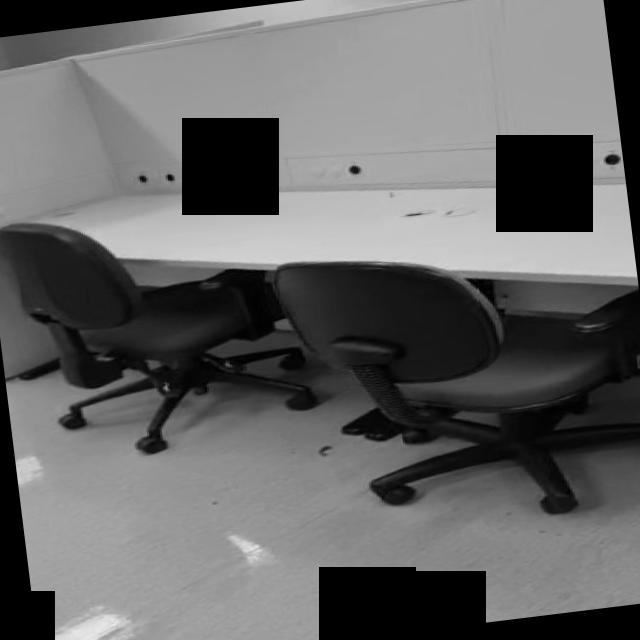cadeira-azul: (0, 189, 323, 467)
